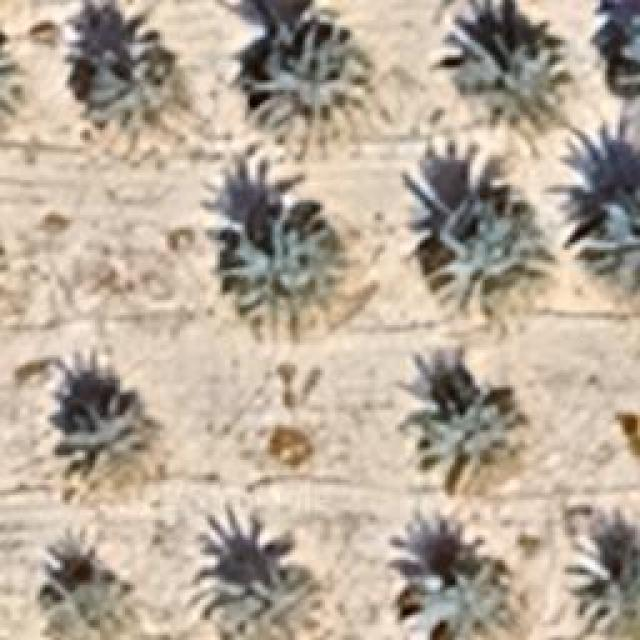PalmTree: (82, 32, 196, 142), (429, 208, 544, 316), (245, 25, 360, 125), (452, 18, 556, 126), (417, 400, 525, 495), (230, 218, 320, 332), (208, 545, 312, 640), (402, 564, 516, 638), (60, 395, 148, 490), (564, 538, 638, 638), (39, 572, 142, 638), (578, 188, 638, 298), (614, 22, 638, 150), (0, 42, 25, 130)
